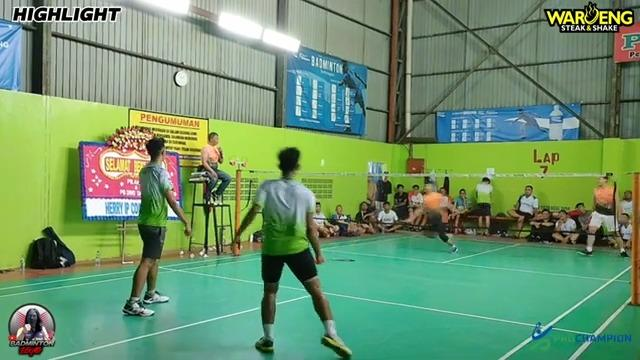Shuttlecock: (318, 158, 330, 170)
